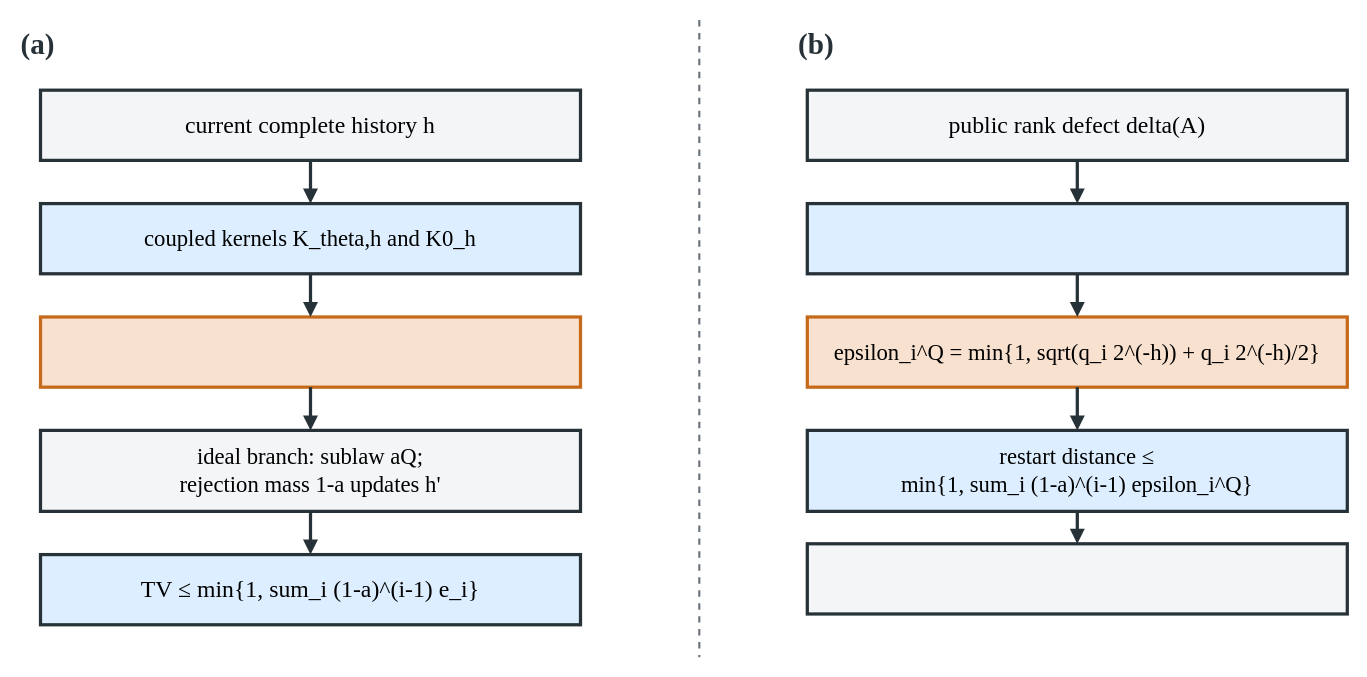
The diagram is 1367 pixels wide and 677 high, and some of its shapes have lost their labels. Each missing label, with the centre of its shape:
commitment min-entropy h: (x=1076, y=238)
independent mask source required: (x=1076, y=578)
round-i error e_i: (x=310, y=351)
